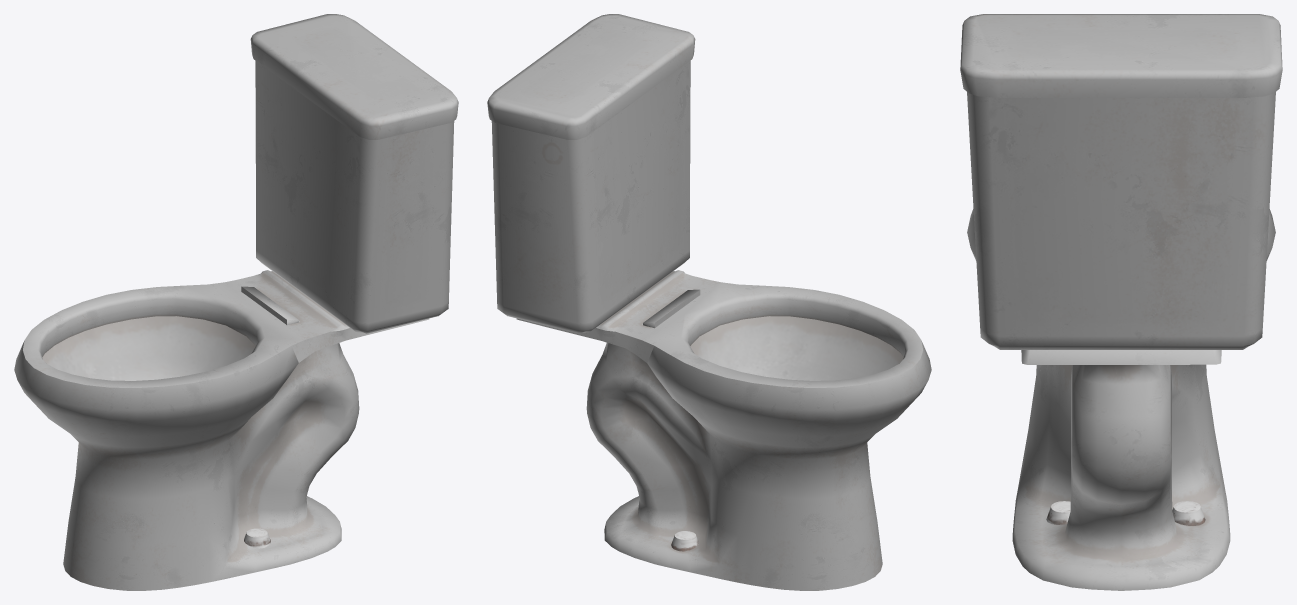
File: SM_Toilet_A1.fbx
3 renders of one model, left to right at view 1: azimuth 30°, elevation 25°; view 2: azimuth 150°, elevation 25°; view 3: azimuth 270°, elevation 25°, orthographic. The views are drawn at different scales.
Visible parts, largest first — view 1: SM_Toilet_A1; view 2: SM_Toilet_A1; view 3: SM_Toilet_A1.
Part boxes in pixels (x1,y1,x2,y2): SM_Toilet_A1: (14, 14, 458, 590); SM_Toilet_A1: (487, 14, 931, 590); SM_Toilet_A1: (960, 14, 1282, 590).
Size of the model in its own units: 92.36 by 53.04 by 103.
Materials: 1 (1 with a texture image).
